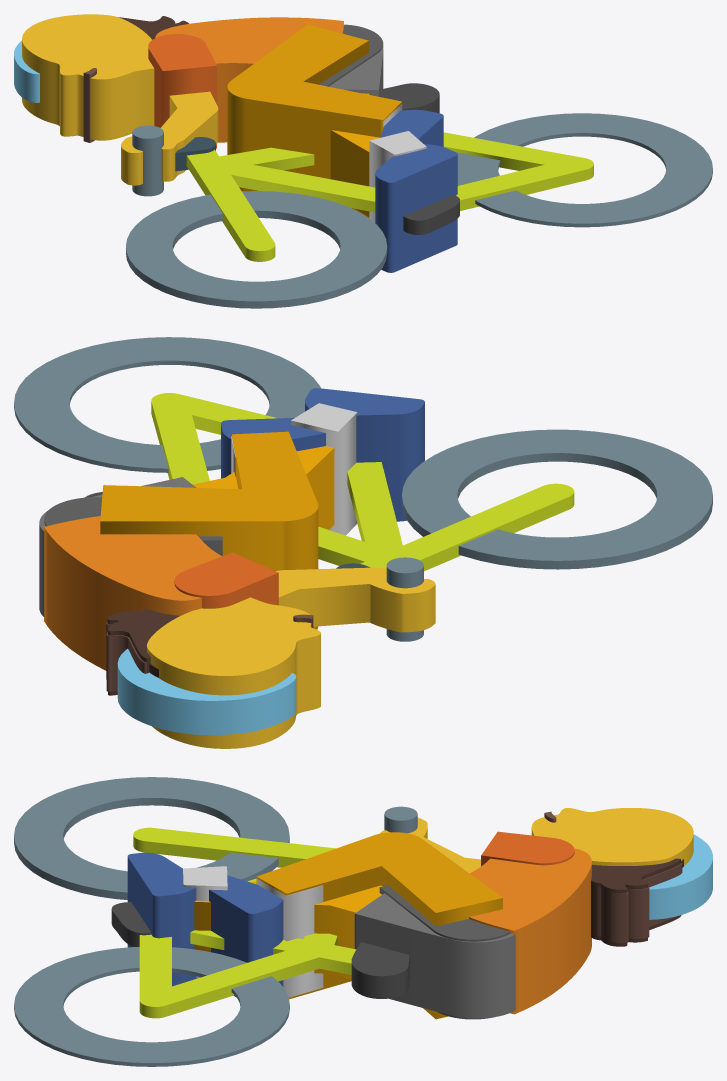
File: emoji_u1f6b4.glb
The picture shows the model from 3 angles, top to bottom: view 1: azimuth 30°, elevation 25°; view 2: azimuth 150°, elevation 25°; view 3: azimuth 270°, elevation 25°; orthographic projection. The views are drawn at different scales.
Parts seen in each view (by area): view 1: emoji_u1f6b4; view 2: emoji_u1f6b4; view 3: emoji_u1f6b4.
Boxes of the visible parts, x1=… form: emoji_u1f6b4: x1=14, y1=14, x2=712, y2=308; emoji_u1f6b4: x1=14, y1=337, x2=712, y2=748; emoji_u1f6b4: x1=14, y1=777, x2=712, y2=1066.
Size of the model in its own units: 0.0321 by 0.0056 by 0.0334.
